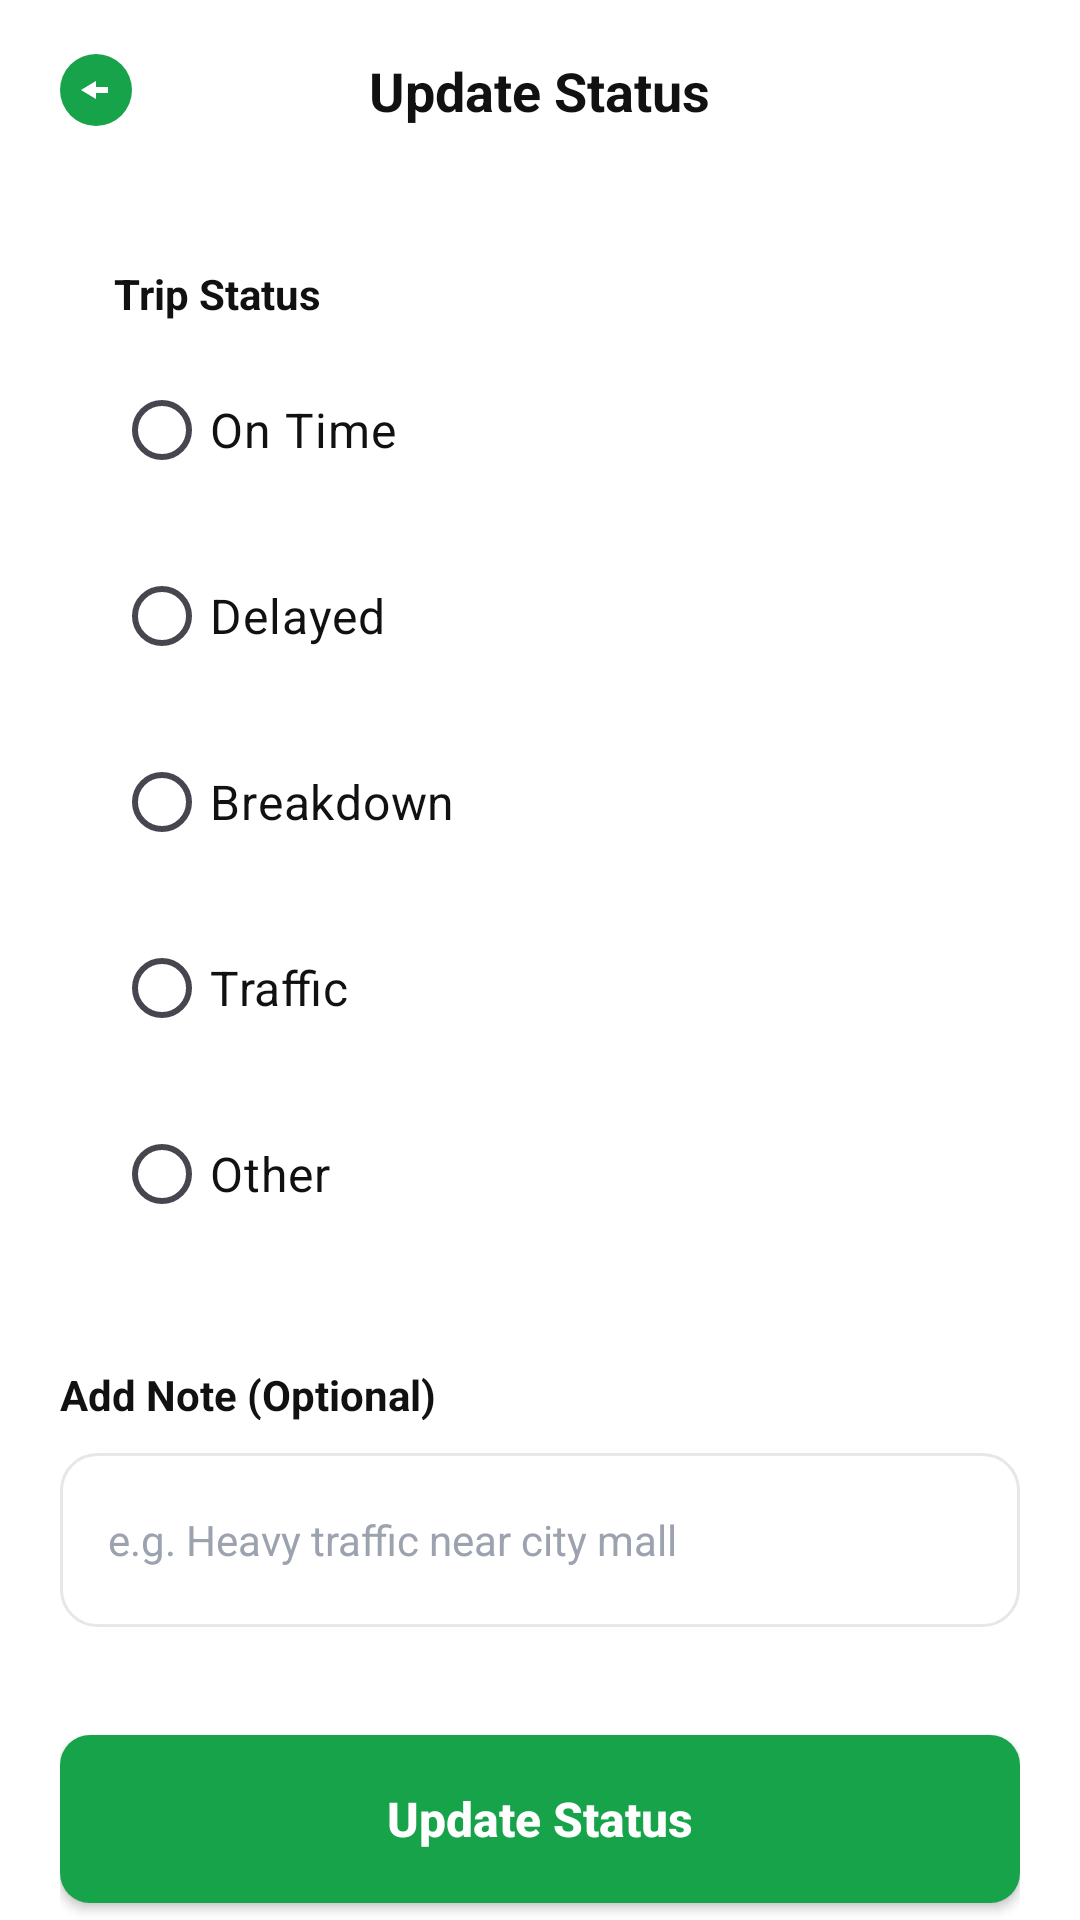

Where to tap for icons on this 1080×1920 app screen, as [x,y]:
back: [96,90]
